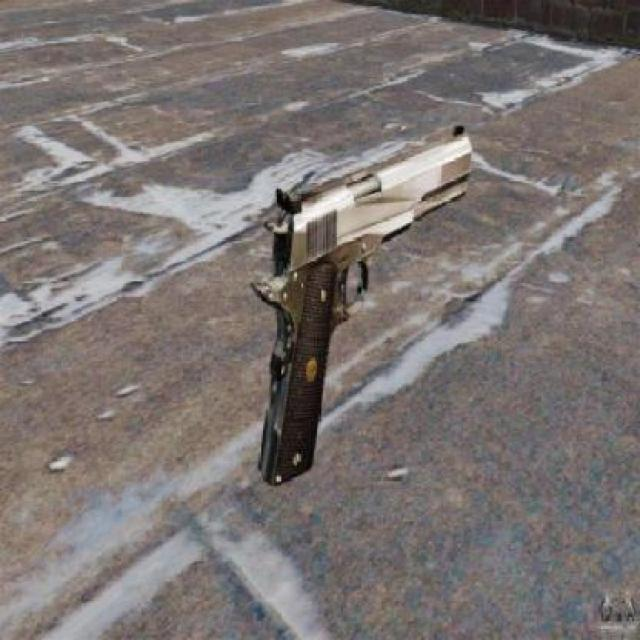gun: (252, 123, 468, 488)
